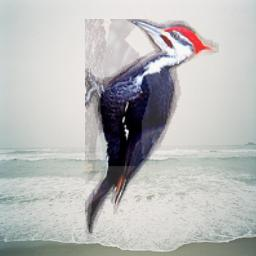Woodpecker: (85, 19, 219, 239)
